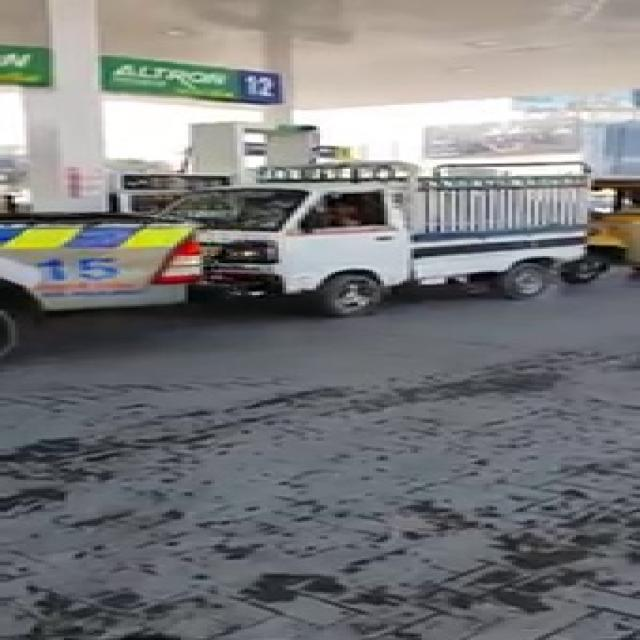police: (0, 196, 211, 342)
